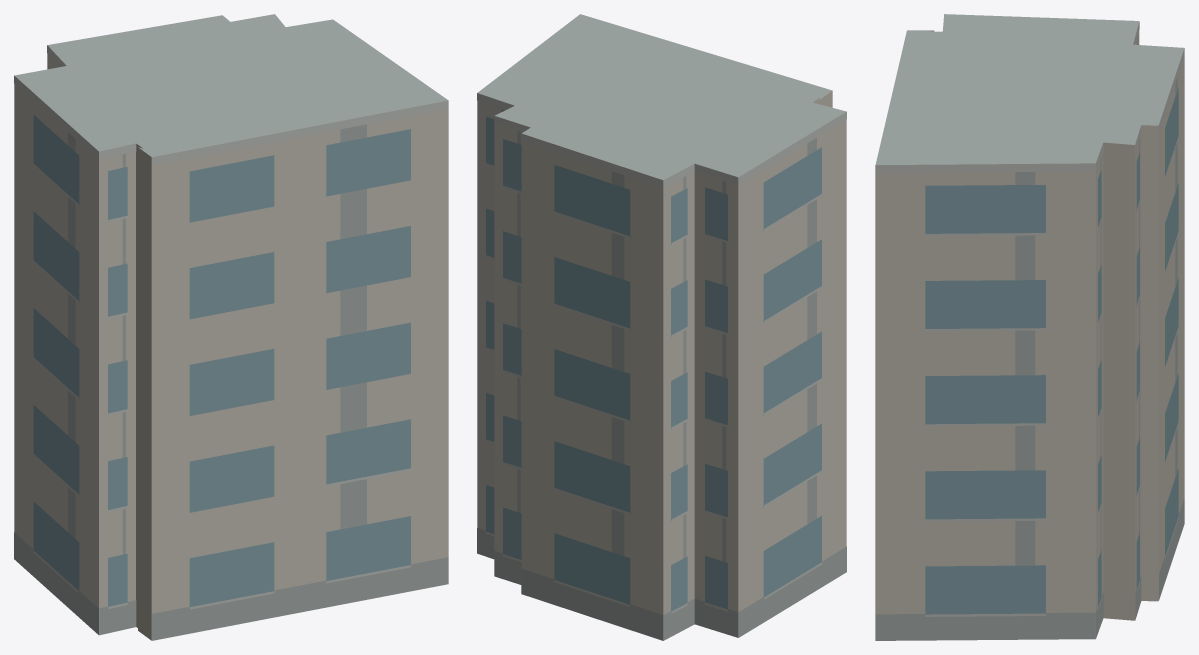
Rendered from survey-upis-33018963.glb.
The picture shows the model from 3 angles, left to right: view 1: azimuth 30°, elevation 25°; view 2: azimuth 150°, elevation 25°; view 3: azimuth 270°, elevation 25°; orthographic projection. The views are drawn at different scales.
Parts seen in each view (by area): view 1: survey-upis-33018963.tmp; view 2: survey-upis-33018963.tmp; view 3: survey-upis-33018963.tmp.
Part boxes in pixels (left/top/right/bottom): survey-upis-33018963.tmp: left=14, top=14, right=448, bottom=640; survey-upis-33018963.tmp: left=477, top=14, right=846, bottom=640; survey-upis-33018963.tmp: left=875, top=14, right=1184, bottom=640.
Bounding box in the file's own units: 9.78 × 14.35 × 8.46.
